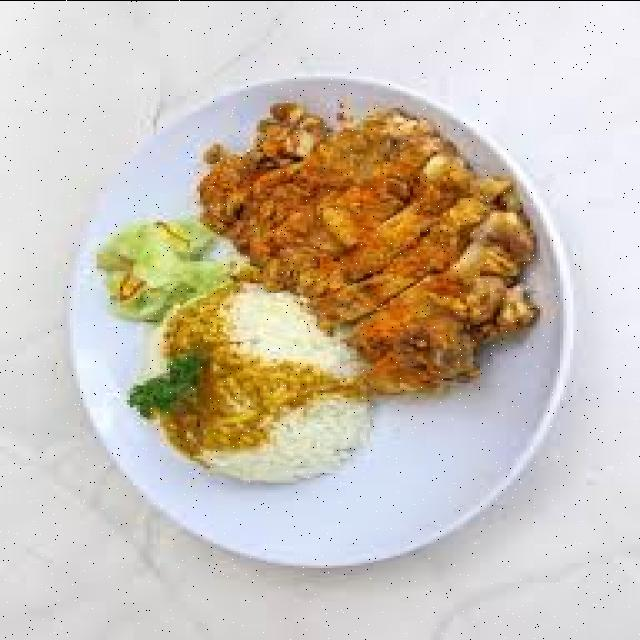Chicken: (200, 105, 533, 392)
Non green veg: (97, 221, 230, 324)
Rice: (140, 282, 367, 482)
